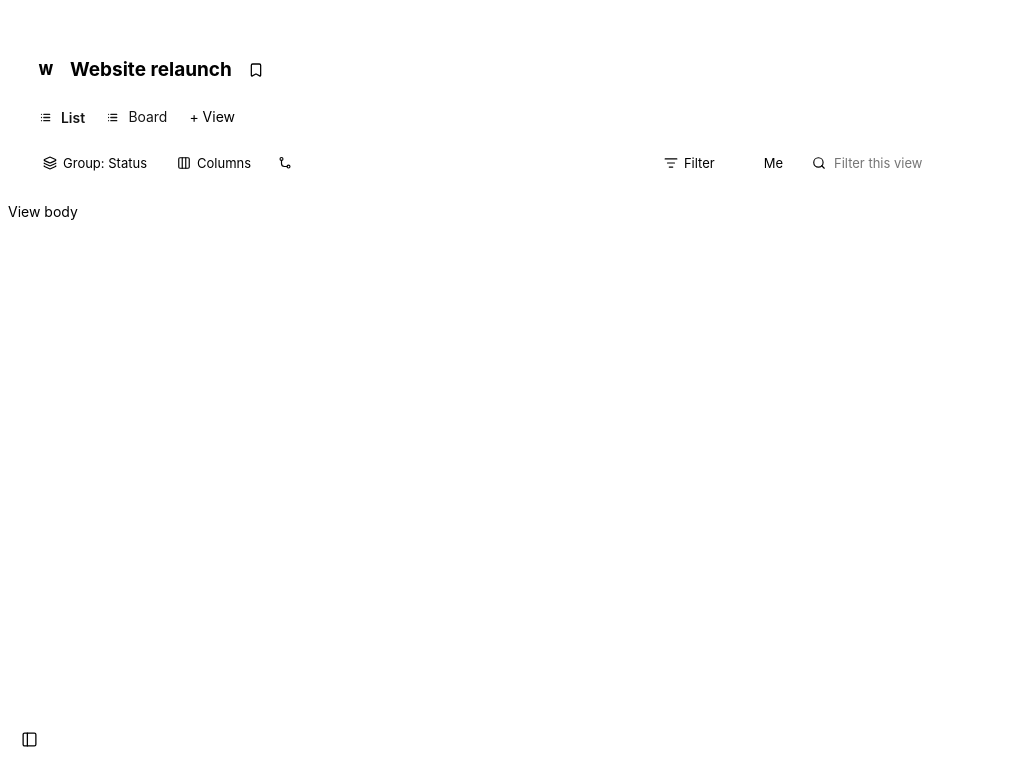
Test: Window › unsaved view drafts › stay while an issue is open over the view, and show again when it closes
Click the button "Me": (763, 163) [732,148,794,178]
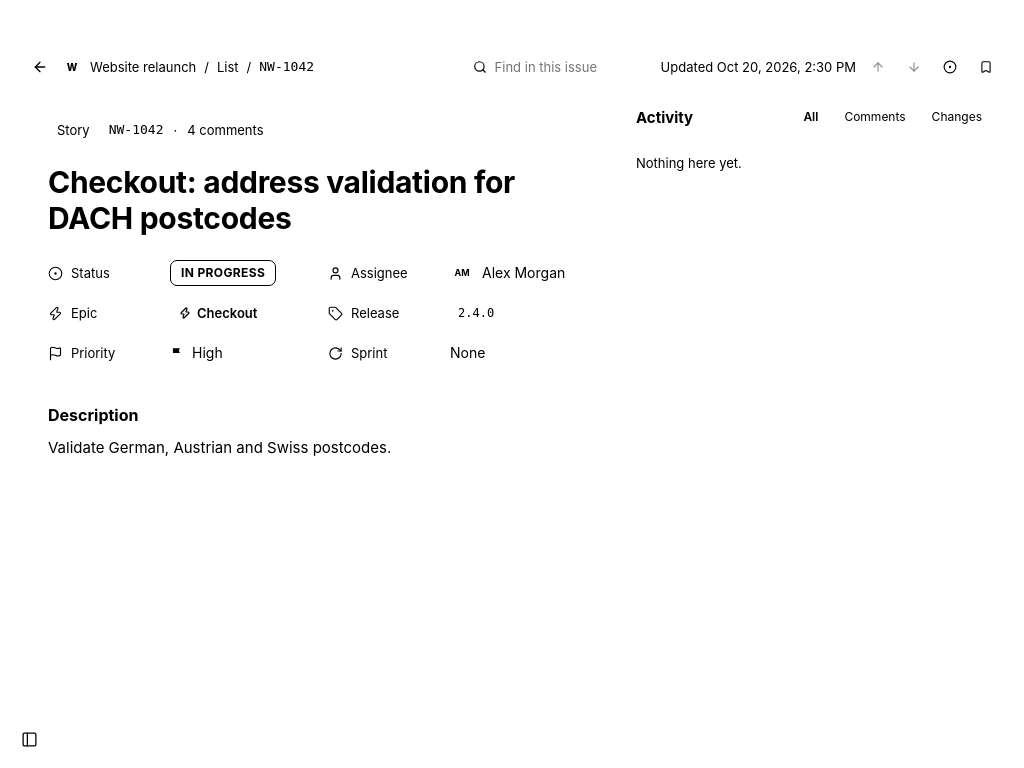
Click the button named "Back to ": (40, 67) [26,53,54,81]
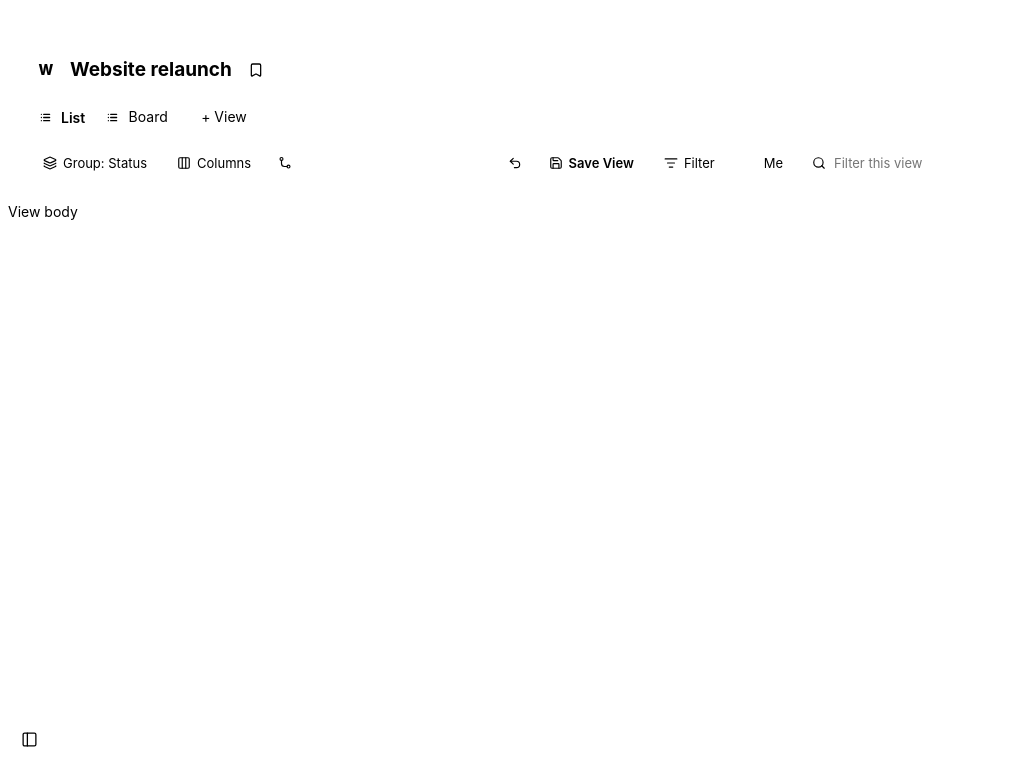
Expected: the button "Me" is shown, [732,148,794,178]
Result: the button "Save View" is shown at [538,148,645,178]
